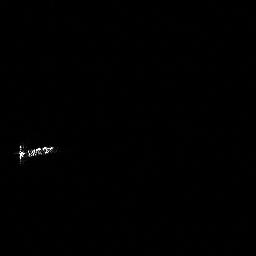ship: (13, 141, 58, 164)
